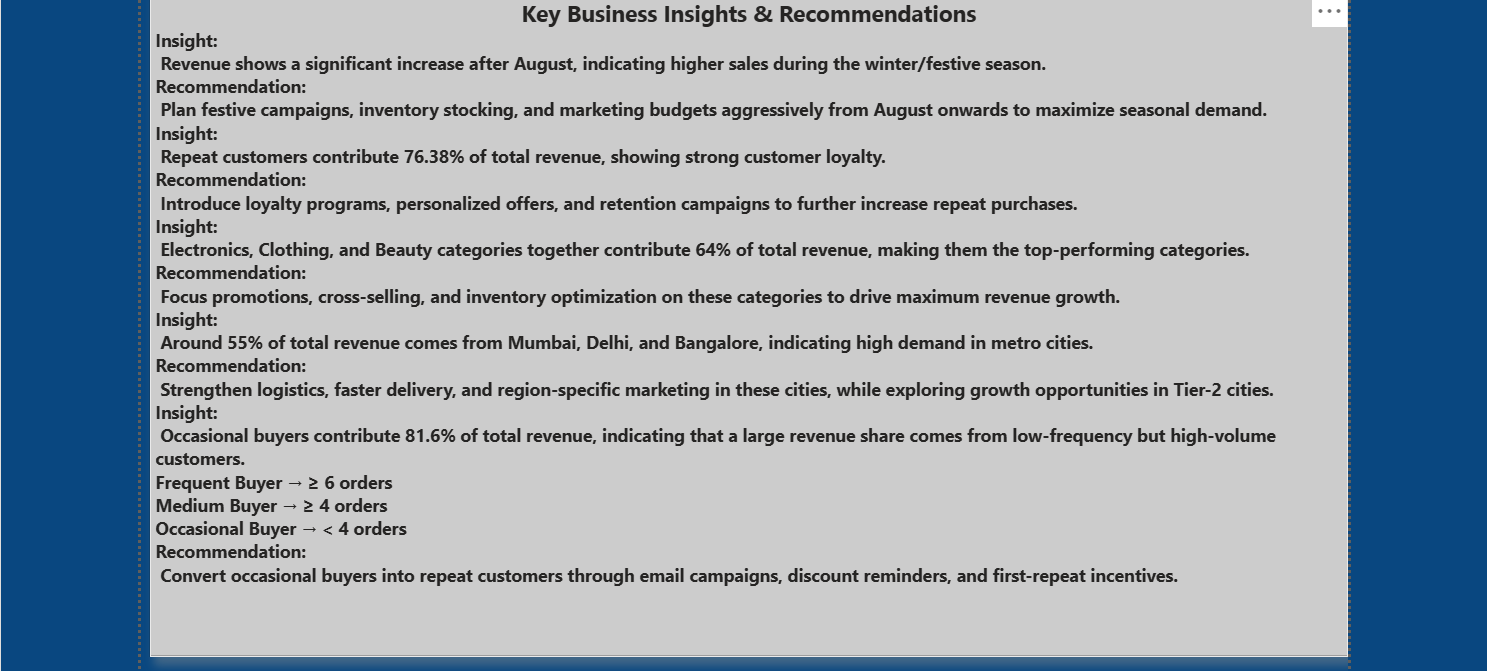

Layout of this report page (visuals, bound fields, positions):
{"tool":"powerbi","page":{"name":"Page 4","canvas":[1280,720],"ordinal":3},"visuals":[{"type":"textbox","box":[9.5,0,1270.9,704.6],"z":0}]}

Visuals, with their boxes on the page's 1280x720 design canvas (x1, y1, x2, y2). These are canvas units, not pixel positions in the 1487x671 screenshot, which may show the page scaled, cropped or inside an application window:
textbox: box(10, 0, 1280, 705)
